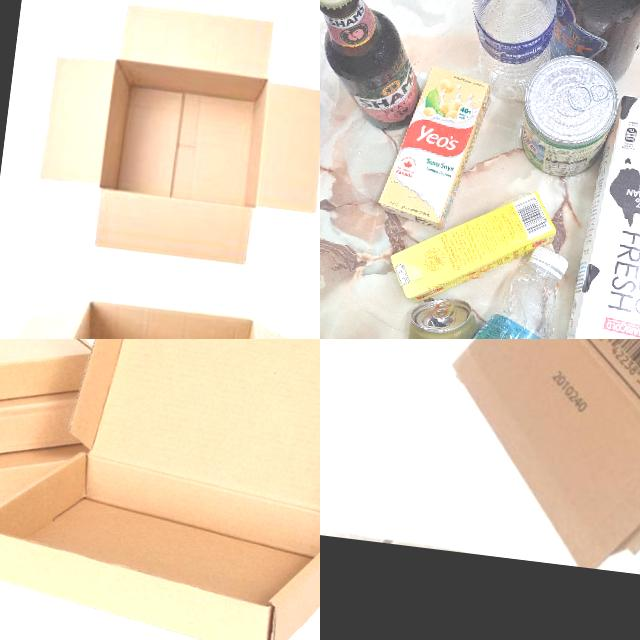aba de lata: (560, 62, 598, 111)
caixinha: (394, 182, 556, 316), (560, 86, 640, 339), (378, 59, 492, 233)
garrafa de vidro: (320, 0, 436, 139), (541, 0, 640, 87)
garrafa plástica: (0, 339, 320, 640), (25, 0, 320, 273), (0, 339, 107, 545), (0, 278, 320, 339), (320, 0, 374, 251), (456, 0, 559, 104), (450, 258, 563, 339)
lata: (510, 50, 620, 181)
papelão: (430, 339, 640, 600)
tampa plástica: (532, 248, 574, 278)
